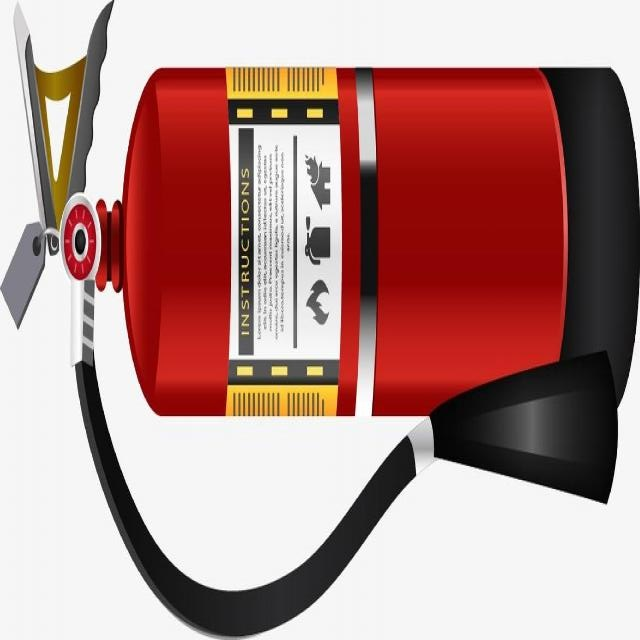fire extinguisher: (1, 0, 639, 638)
